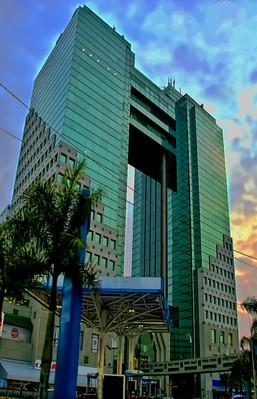building: (6, 2, 247, 399)
